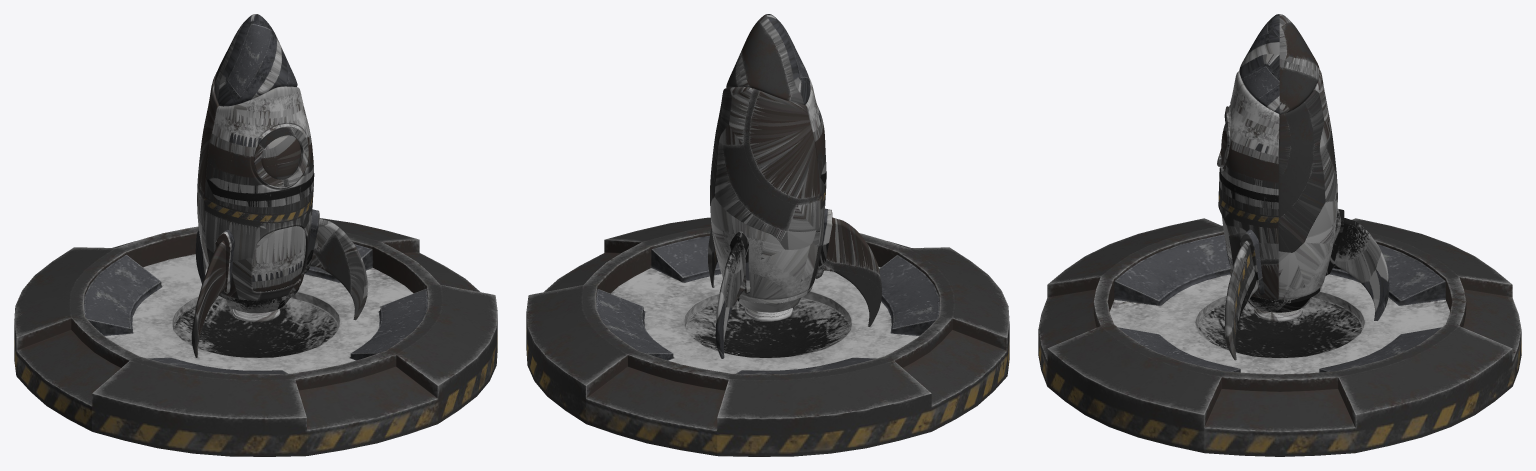
File: pad-with-textures.fbx
3 renders of one model, left to right at view 1: azimuth 30°, elevation 25°; view 2: azimuth 150°, elevation 25°; view 3: azimuth 270°, elevation 25°, orthographic.
Parts seen in each view (by area): view 1: Platform_Outer, Platform_Inner, FrontBody, Platform_Centre, Cone, FIn_1, Door, Fin_3, BackBody, Window, Window_Frame, Propulsion; view 2: Platform_Outer, Platform_Inner, BackBody, Platform_Centre, Cone, Fin_3, Fin_2, FrontBody, Propulsion; view 3: Platform_Outer, Platform_Inner, BackBody, FrontBody, Platform_Centre, Cone, Fin_2, FIn_1, Propulsion.
Part boxes in pixels (bbox=[...]): Platform_Outer: bbox=[14, 218, 497, 456]; Platform_Inner: bbox=[84, 244, 427, 374]; FrontBody: bbox=[204, 86, 314, 300]; Platform_Centre: bbox=[173, 297, 338, 357]; Cone: bbox=[214, 14, 297, 106]; FIn_1: bbox=[304, 209, 367, 320]; Door: bbox=[252, 226, 305, 291]; Fin_3: bbox=[191, 229, 234, 357]; BackBody: bbox=[197, 72, 219, 269]; Window: bbox=[261, 135, 300, 179]; Window_Frame: bbox=[254, 127, 308, 187]; Propulsion: bbox=[219, 286, 299, 322]; Platform_Outer: bbox=[526, 217, 1009, 456]; Platform_Inner: bbox=[596, 235, 939, 374]; BackBody: bbox=[710, 86, 820, 299]; Platform_Centre: bbox=[685, 297, 850, 357]; Cone: bbox=[726, 14, 810, 104]; Fin_3: bbox=[815, 208, 881, 326]; Fin_2: bbox=[715, 231, 750, 358]; FrontBody: bbox=[805, 77, 826, 289]; Propulsion: bbox=[737, 285, 812, 321]; Platform_Outer: bbox=[1038, 218, 1521, 456]; Platform_Inner: bbox=[1109, 234, 1449, 374]; BackBody: bbox=[1278, 70, 1337, 299]; FrontBody: bbox=[1218, 71, 1279, 299]; Platform_Centre: bbox=[1197, 297, 1362, 357]; Cone: bbox=[1239, 14, 1319, 114]; Fin_2: bbox=[1325, 209, 1389, 320]; FIn_1: bbox=[1225, 229, 1264, 360]; Propulsion: bbox=[1248, 285, 1322, 321].
Size of the model in its own units: 125 by 96.57 by 125.
Materials: 2 (2 with a texture image).
